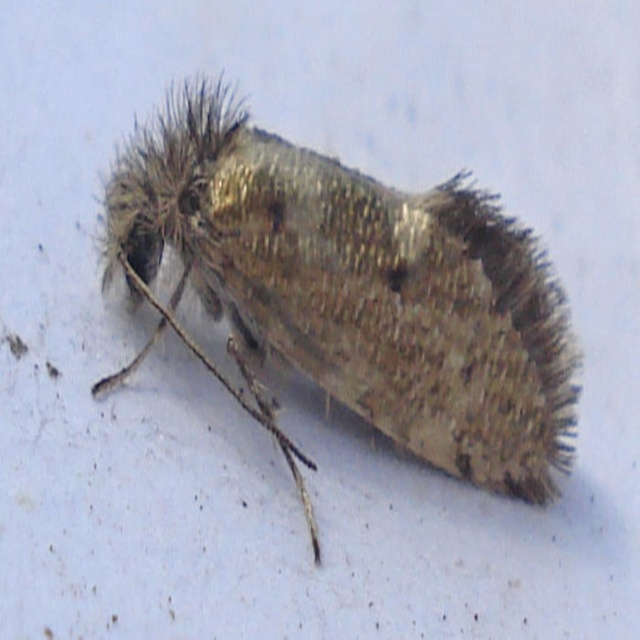Moths and butterflies: (87, 60, 590, 575)
